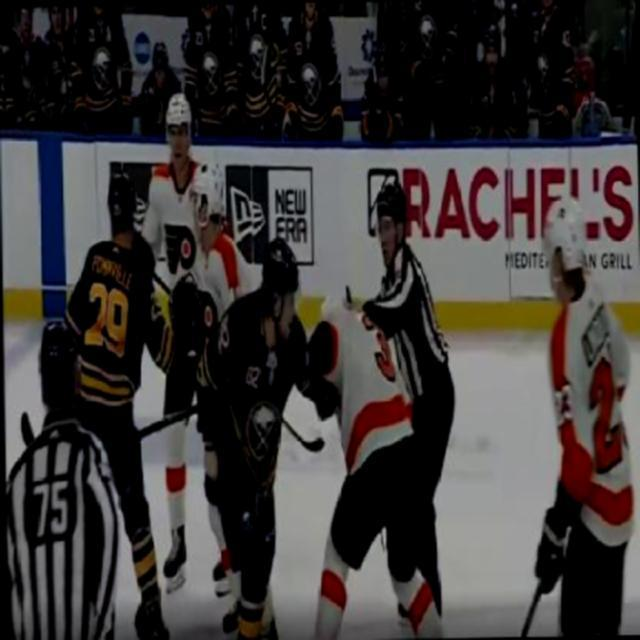fight: (196, 232, 427, 638)
non-fight: (535, 188, 637, 634), (3, 318, 125, 638)
